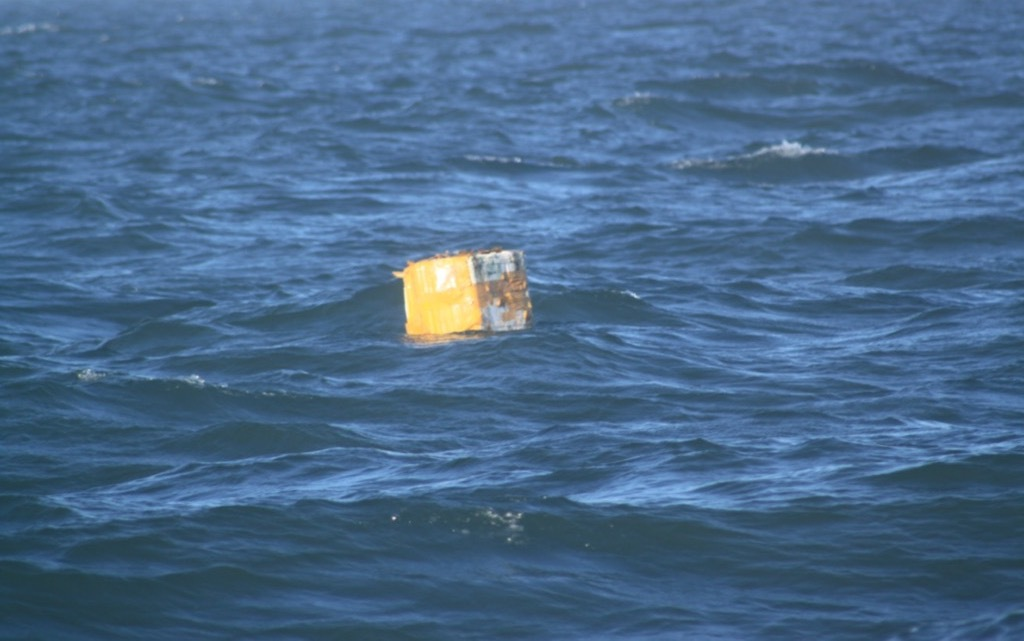plastic: (362, 216, 563, 375)
